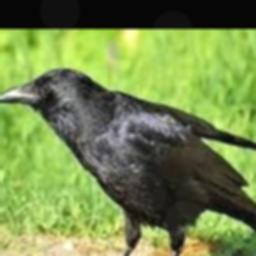Crow: (0, 67, 256, 256)
